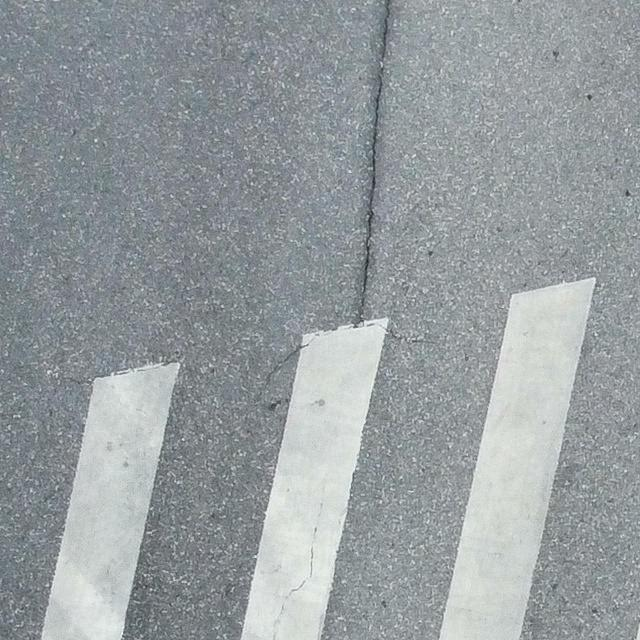LongitudinalCrack: (353, 1, 394, 330)
